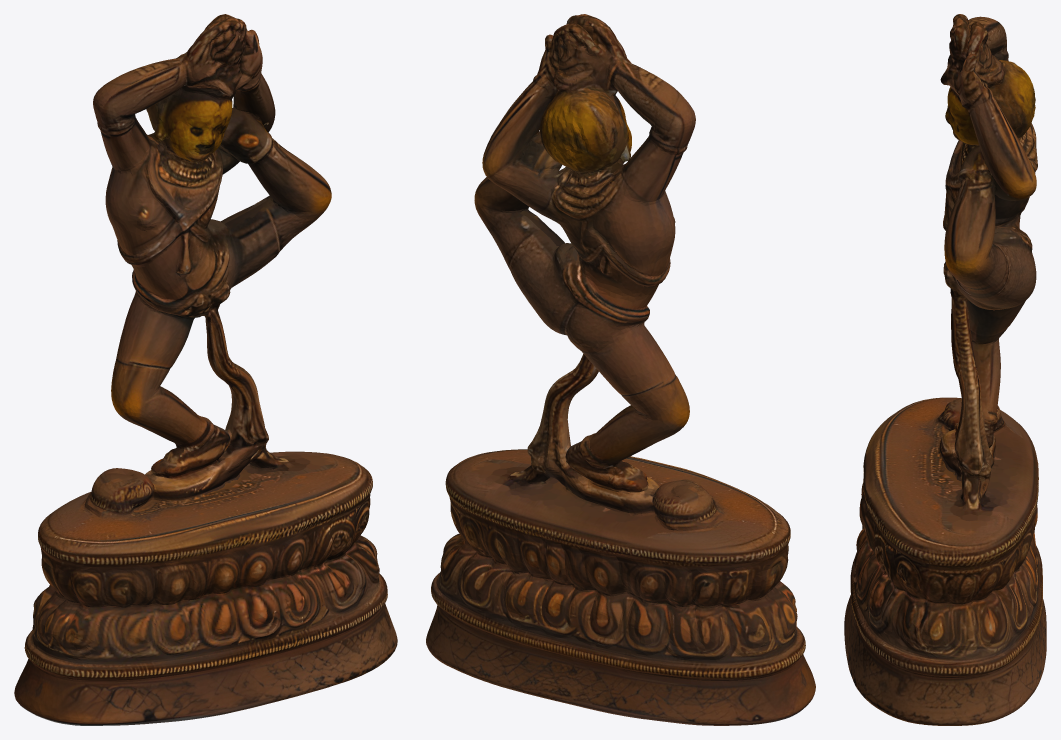
The picture shows the model from 3 angles, left to right: view 1: azimuth 30°, elevation 25°; view 2: azimuth 150°, elevation 25°; view 3: azimuth 270°, elevation 25°; orthographic projection. The views are drawn at different scales.
Parts seen in each view (by area): view 1: textured_mesh; view 2: textured_mesh; view 3: textured_mesh.
Boxes of the visible parts, x1,y1,x2,y2 form: textured_mesh: [14, 14, 397, 725]; textured_mesh: [426, 14, 815, 725]; textured_mesh: [844, 14, 1046, 725].
Bounding box in the file's own units: 1.16 × 1.99 × 0.574.
1 material, 1 textured.
